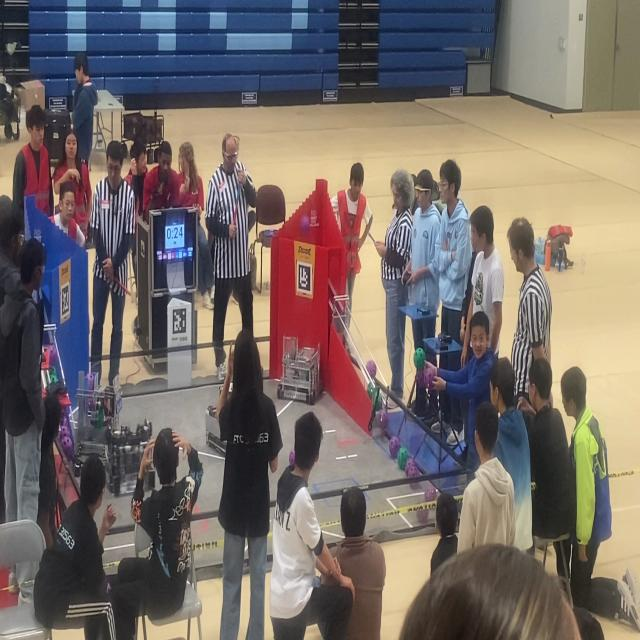artifact_green: (368, 382, 382, 411), (378, 408, 388, 431), (373, 389, 382, 411), (49, 366, 59, 383), (367, 382, 375, 400)
artifact_purple: (418, 483, 437, 524), (60, 437, 74, 459), (414, 347, 426, 370), (417, 509, 434, 525), (405, 458, 419, 477), (397, 447, 408, 470), (424, 367, 435, 389), (389, 437, 400, 458), (378, 408, 388, 431), (425, 483, 437, 502), (417, 368, 427, 388), (373, 412, 383, 431), (366, 360, 376, 378), (60, 423, 70, 440), (301, 216, 310, 234), (49, 346, 57, 362), (87, 373, 95, 389), (289, 450, 295, 468), (384, 428, 391, 440), (61, 416, 68, 427)
